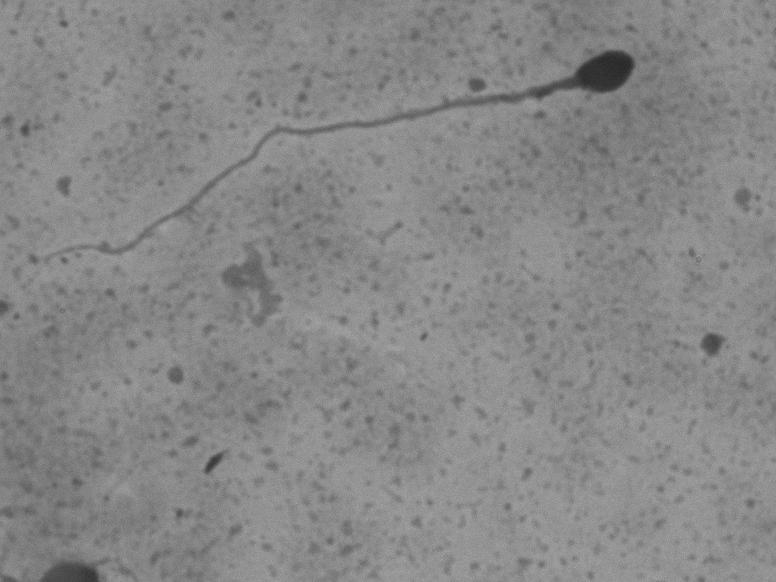Abnormal: (33, 16, 682, 296)
